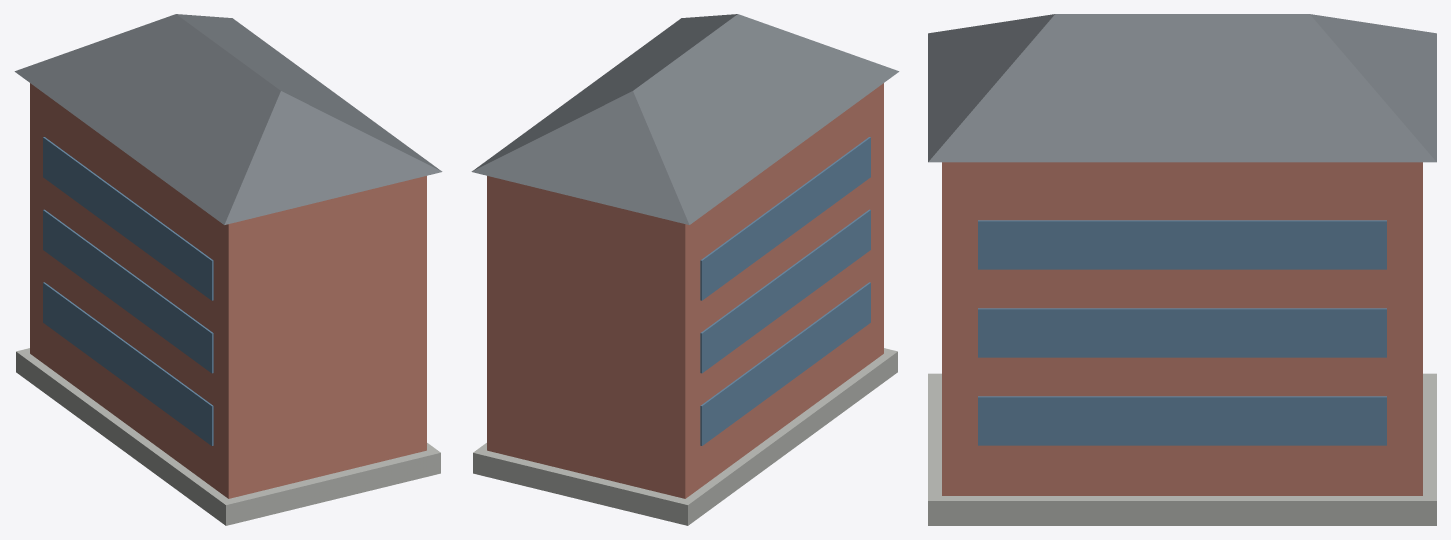
The model's file is townhouse_row_unit.glb.
The picture shows the model from 3 angles, left to right: view 1: azimuth 30°, elevation 25°; view 2: azimuth 150°, elevation 25°; view 3: azimuth 270°, elevation 25°; orthographic projection. The views are drawn at different scales.
Visible parts, largest first — view 1: townhouse_row_unit; view 2: townhouse_row_unit; view 3: townhouse_row_unit.
Part boxes in pixels (<box>): townhouse_row_unit: <box>14,14,442,525</box>; townhouse_row_unit: <box>471,14,899,525</box>; townhouse_row_unit: <box>928,14,1436,525</box>.
Bounding box in the file's own units: 6.6 × 10.7 × 11.
